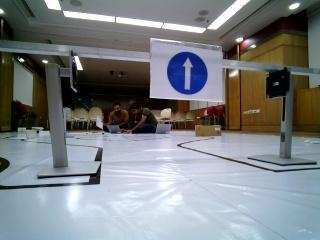straight: (150, 40, 229, 104)
